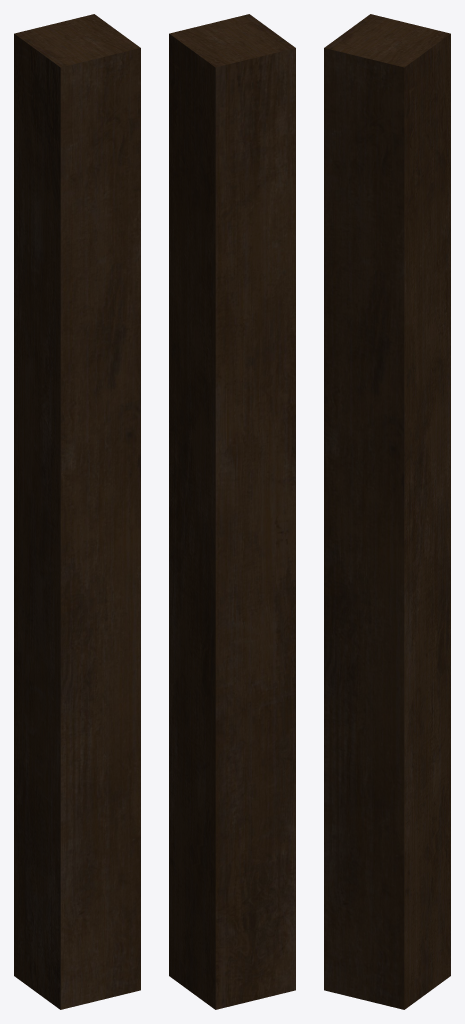
Rendered from Belka.fbx.
3 renders of one model, left to right at view 1: azimuth 30°, elevation 25°; view 2: azimuth 210°, elevation 25°; view 3: azimuth 330°, elevation 25°, orthographic.
Visible parts, largest first — view 1: Cube.022; view 2: Cube.022; view 3: Cube.022.
Boxes of the visible parts, x1,y1,x2,y2 form: Cube.022: (14,14,140,1009); Cube.022: (169,14,295,1009); Cube.022: (324,14,450,1009).
Bounding box in the file's own units: 0.2706 × 3.03 × 0.2706.
